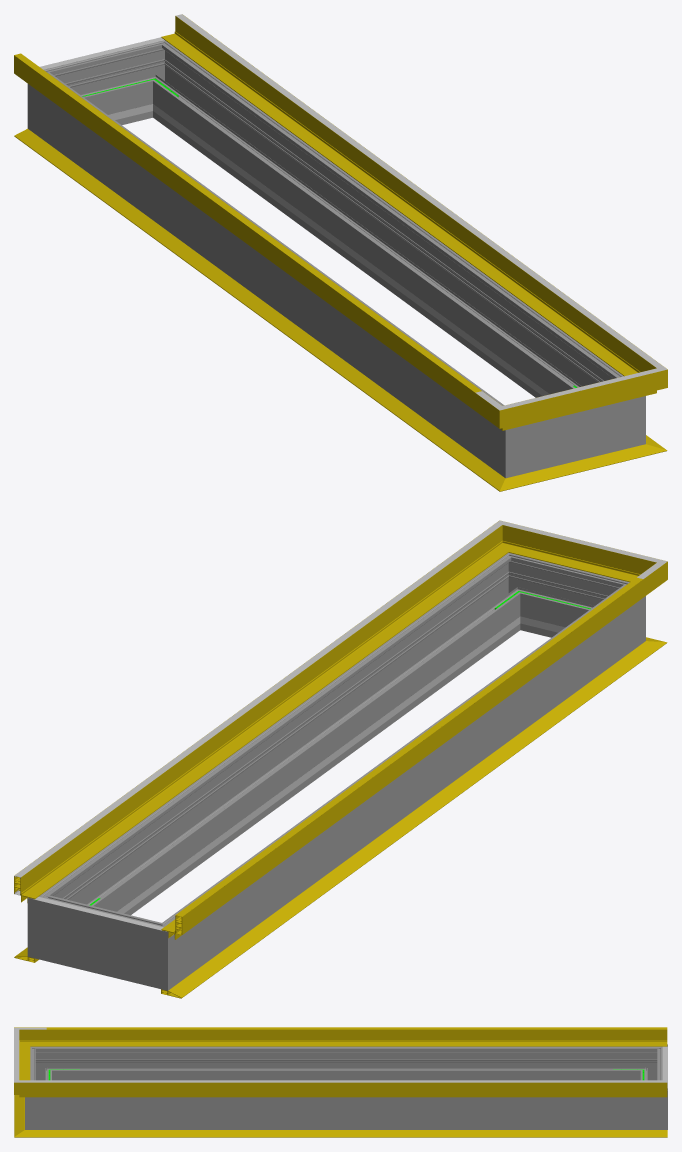
3 renders of one model, top to bottom at view 1: azimuth 30°, elevation 25°; view 2: azimuth 150°, elevation 25°; view 3: azimuth 270°, elevation 25°, orthographic. The views are drawn at different scales.
Visible parts, largest first — view 1: 3DGeom-297, 3DGeom-268, 3DGeom-58, 3DGeom-50, 3DGeom-38, 3DGeom-276, 3DGeom-71, 3DGeom-64, 3DGeom-270, 3DGeom-237, 3DGeom-298, 3DGeom-284 (+7 smaller); view 2: 3DGeom-297, 3DGeom-268, 3DGeom-58, 3DGeom-50, 3DGeom-38, 3DGeom-278, 3DGeom-276, 3DGeom-298, 3DGeom-64, 3DGeom-71, 3DGeom-237, 3DGeom-284 (+5 smaller); view 3: 3DGeom-268, 3DGeom-297, 3DGeom-50, 3DGeom-58, 3DGeom-30, 3DGeom-64, 3DGeom-71, 3DGeom-284, 3DGeom-290, 3DGeom-278, 3DGeom-270, 3DGeom-52 (+5 smaller).
Part boxes in pixels (x1,y1,x2,y2): 3DGeom-297: [157, 55, 613, 397]; 3DGeom-268: [52, 84, 494, 460]; 3DGeom-58: [161, 16, 641, 374]; 3DGeom-50: [14, 55, 475, 410]; 3DGeom-38: [14, 128, 488, 473]; 3DGeom-276: [73, 48, 145, 124]; 3DGeom-71: [14, 53, 481, 392]; 3DGeom-64: [176, 14, 642, 353]; 3DGeom-270: [481, 398, 547, 478]; 3DGeom-237: [176, 121, 549, 395]; 3DGeom-298: [547, 406, 603, 467]; 3DGeom-284: [130, 40, 185, 120]; 3DGeom-297: [59, 567, 516, 915]; 3DGeom-268: [179, 596, 621, 972]; 3DGeom-58: [14, 538, 496, 902]; 3DGeom-50: [161, 579, 643, 939]; 3DGeom-38: [161, 653, 642, 998]; 3DGeom-278: [125, 911, 192, 990]; 3DGeom-276: [69, 902, 133, 980]; 3DGeom-298: [527, 561, 599, 637]; 3DGeom-64: [14, 538, 481, 878]; 3DGeom-71: [176, 577, 642, 917]; 3DGeom-237: [117, 634, 496, 913]; 3DGeom-284: [27, 882, 77, 966]; 3DGeom-268: [57, 1046, 635, 1080]; 3DGeom-297: [57, 1097, 635, 1129]; 3DGeom-50: [46, 1027, 667, 1046]; 3DGeom-58: [46, 1082, 667, 1097]; 3DGeom-30: [47, 1130, 667, 1137]; 3DGeom-64: [46, 1080, 667, 1082]; 3DGeom-71: [46, 1027, 667, 1029]; 3DGeom-284: [635, 1076, 667, 1129]; 3DGeom-290: [25, 1076, 57, 1129]; 3DGeom-278: [635, 1044, 667, 1080]; 3DGeom-270: [30, 1046, 57, 1080]; 3DGeom-52: [14, 1027, 46, 1052].
Size of the model in its own units: 0.6096 by 0.2831 by 3.05.
